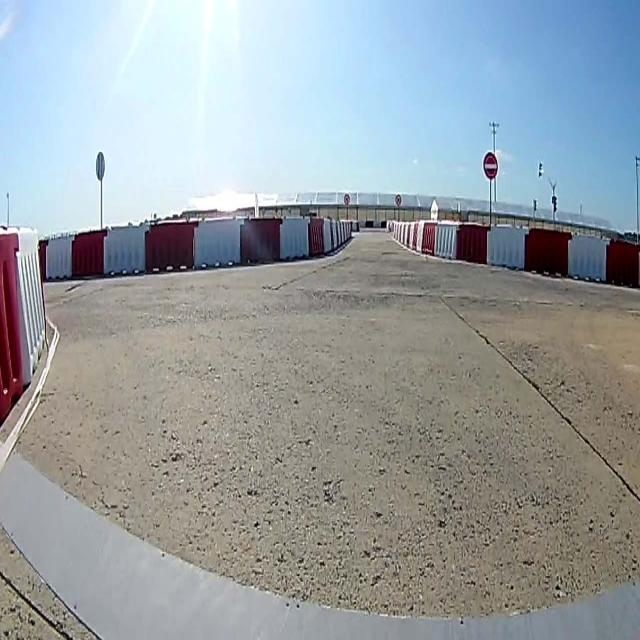girisyok: (483, 148, 499, 183)
